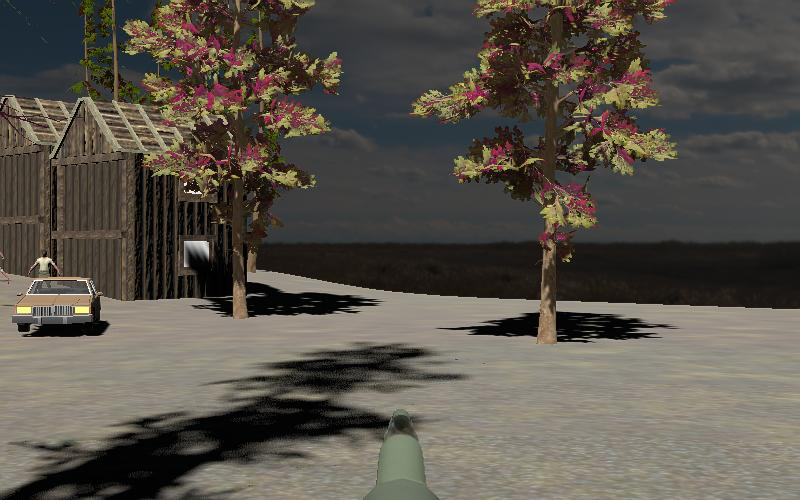House: (50, 96, 245, 300), (0, 95, 76, 275)
Human: (27, 248, 61, 281)
car: (11, 275, 103, 335)
